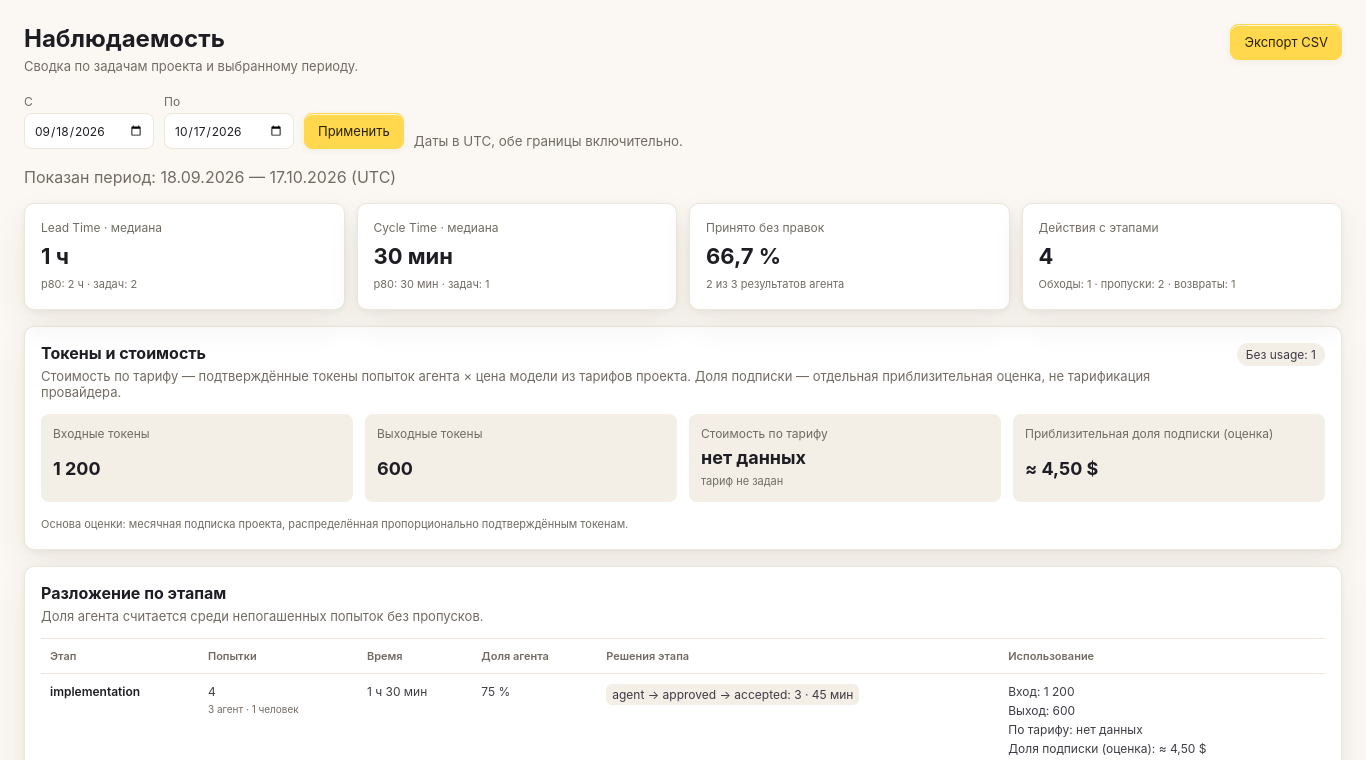
Test case: Observability › reports a load failure and drops metrics of the previous period
Expected: the heading "Разложение по этапам" is shown, [41,583,226,603]
Type "2026-09-01" into the date field labelled "С".
click(89, 131); type("2026-09-01")  # box [24,113,154,149]
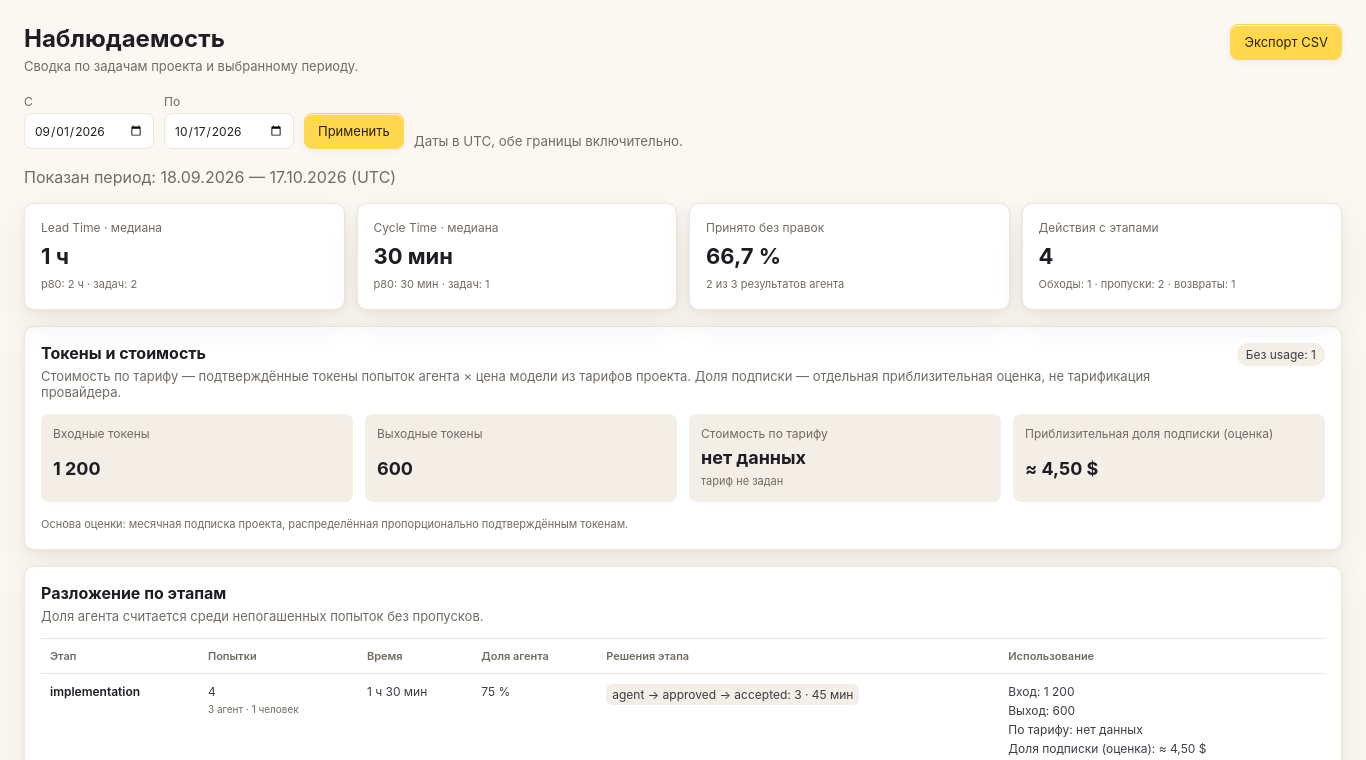
Type "2026-09-30" into the date field labelled "По".
click(229, 131); type("2026-09-30")  # box [164,113,294,149]
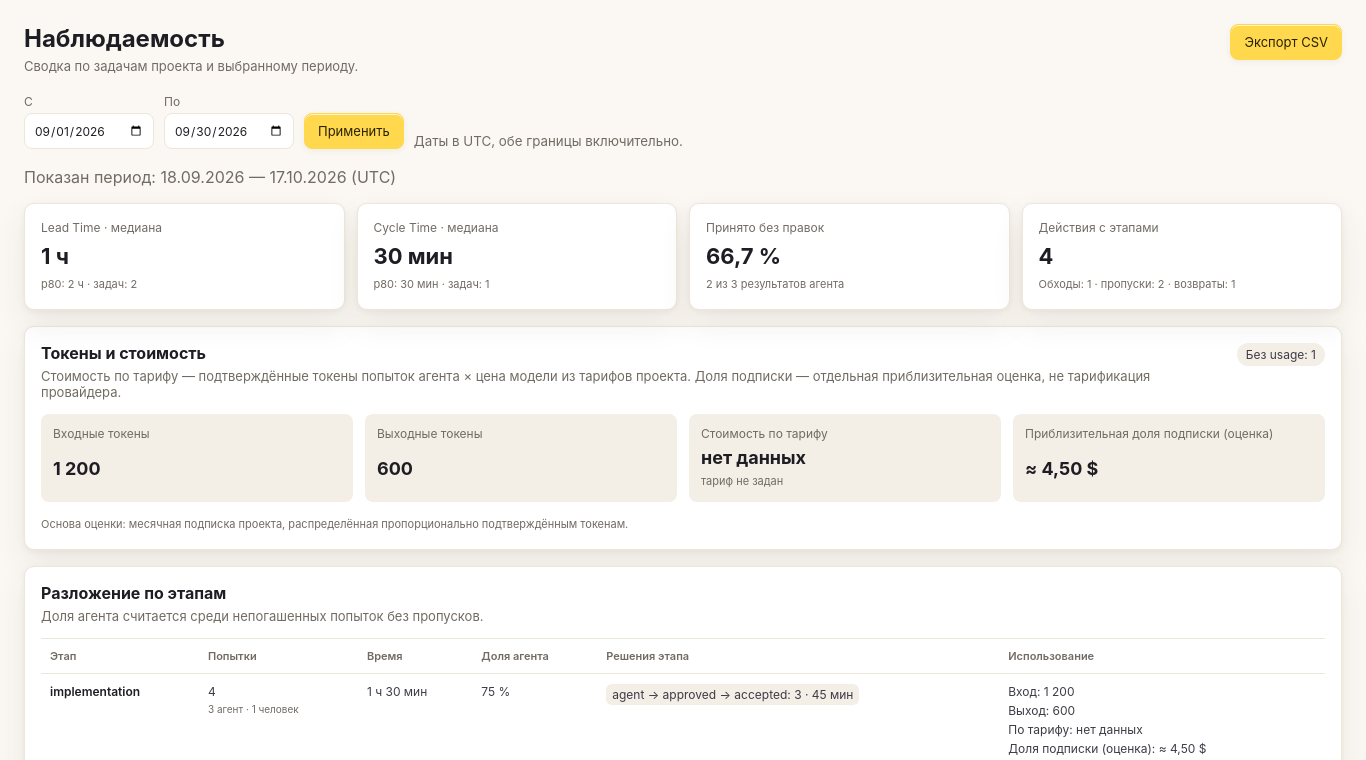
Click the button "Применить".
click(354, 131)  # box [304,113,404,149]
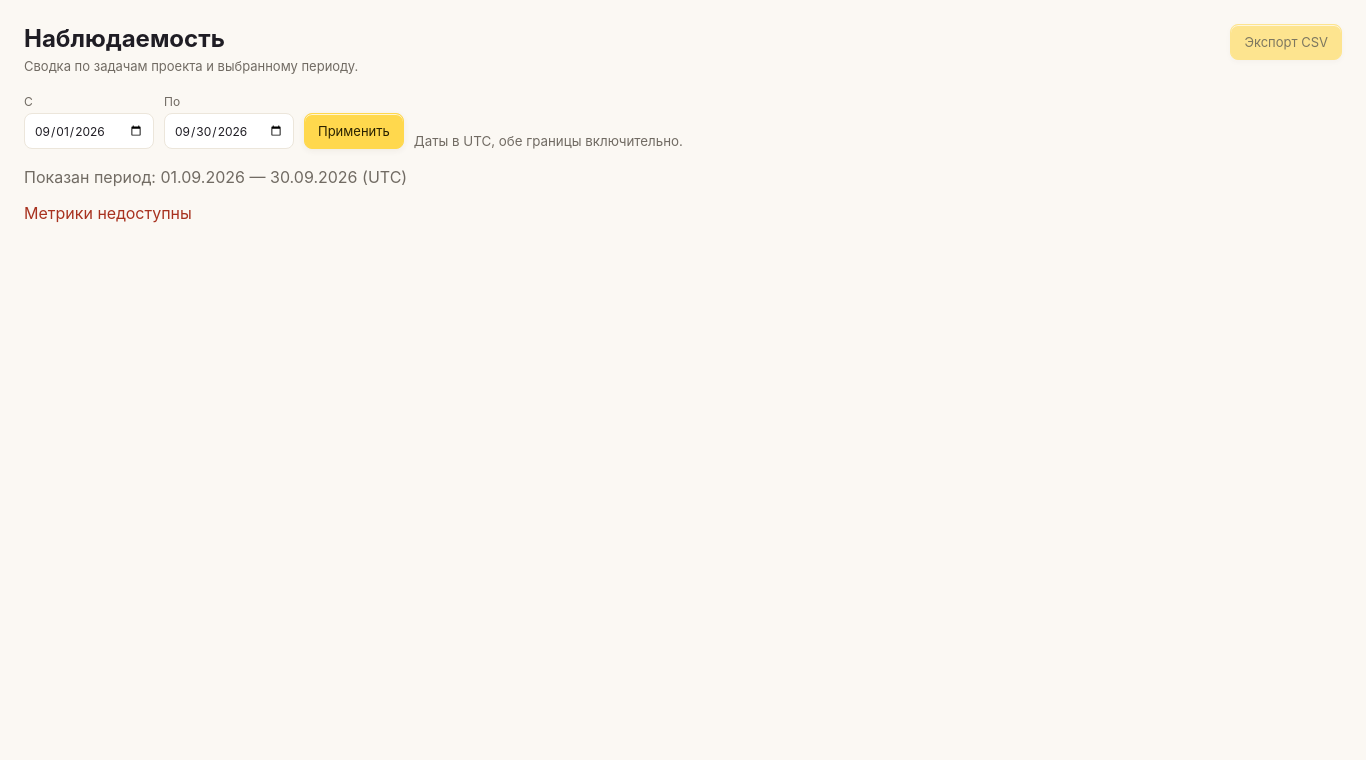
Expected: the message reads "Метрики недоступны", [24,203,192,223]
Expected: no column headings "implementation" are shown
Expected: the button "Экспорт CSV" is disabled, [1230,24,1342,60]
